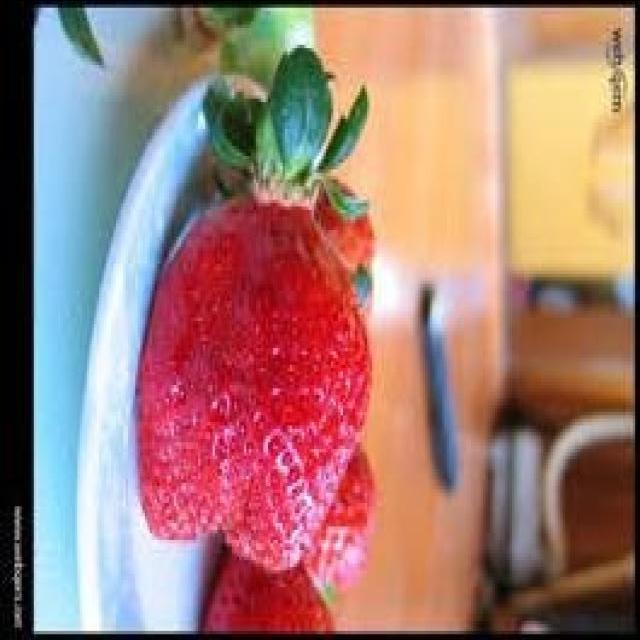strawberry: (136, 194, 372, 575)
